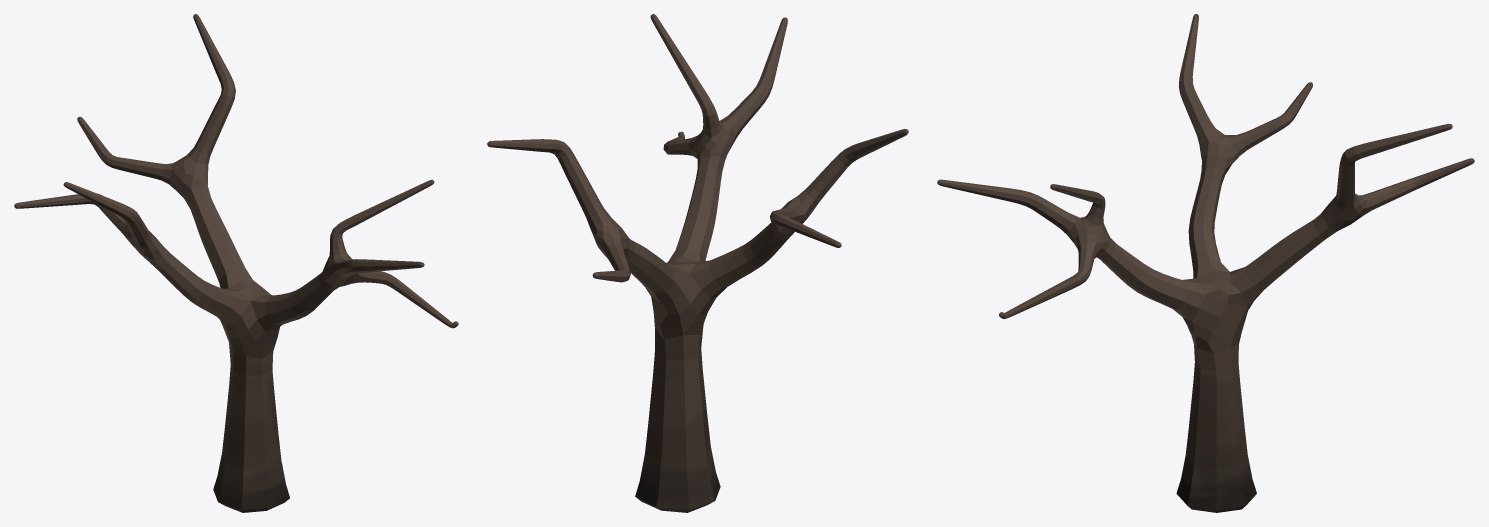
The model's file is foretMort1.fbx.
The picture shows the model from 3 angles, left to right: view 1: azimuth 30°, elevation 25°; view 2: azimuth 150°, elevation 25°; view 3: azimuth 270°, elevation 25°; orthographic projection. The views are drawn at different scales.
Parts seen in each view (by area): view 1: Plane; view 2: Plane; view 3: Plane.
Boxes of the visible parts, x1,y1,x2,y2 form: Plane: (14, 14, 458, 512); Plane: (487, 14, 908, 512); Plane: (937, 14, 1474, 512).
Size of the model in its own units: 1.74 by 2.16 by 2.59.
Materials: 1 (1 with a texture image).
